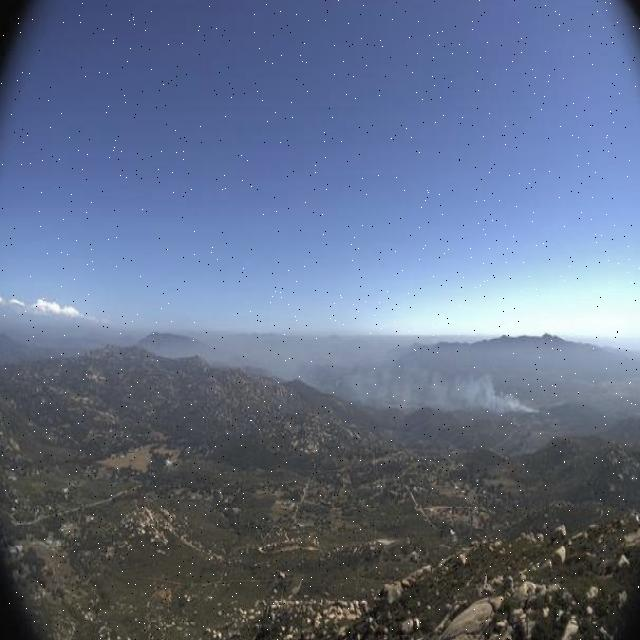smoke: (279, 328, 537, 418)
